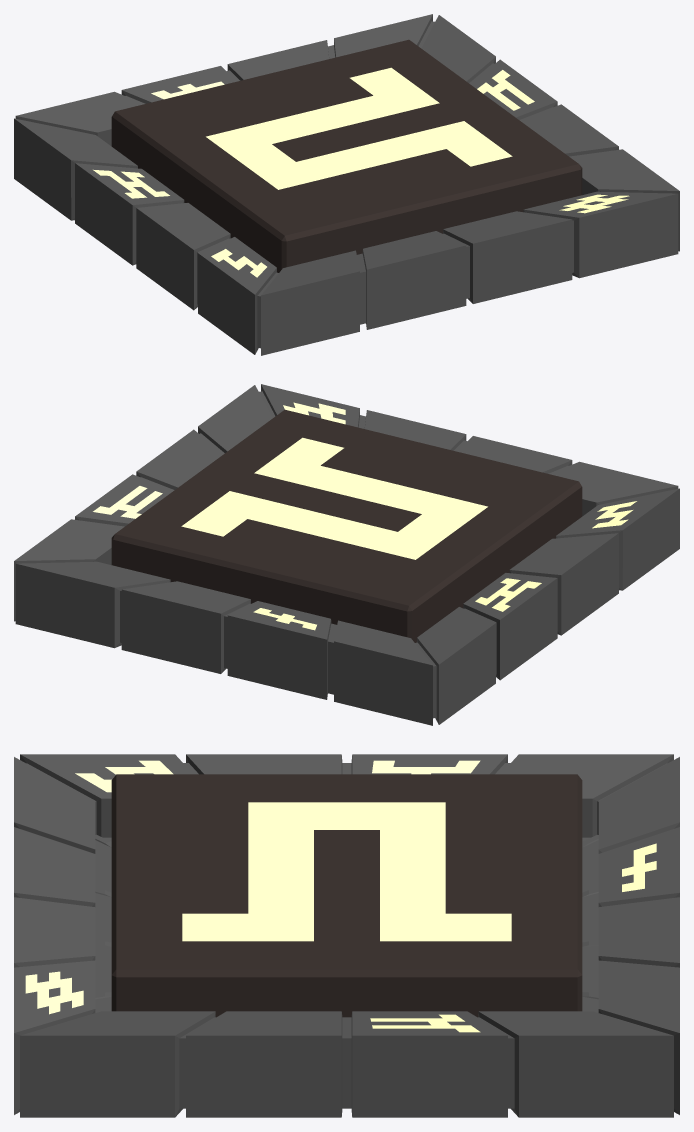
File: rune_pressure_plate_01.fbx
3 renders of one model, top to bottom at view 1: azimuth 30°, elevation 25°; view 2: azimuth 150°, elevation 25°; view 3: azimuth 270°, elevation 25°, orthographic. The views are drawn at different scales.
Visible parts, largest first — view 1: rune_pressure_plate_01, pressure_plate.001; view 2: rune_pressure_plate_01, pressure_plate.001; view 3: rune_pressure_plate_01, pressure_plate.001.
Part boxes in pixels (box(x1,y1,x2,y2)): rune_pressure_plate_01: box(14, 14, 679, 355); pressure_plate.001: box(111, 39, 582, 272); rune_pressure_plate_01: box(14, 384, 679, 725); pressure_plate.001: box(111, 409, 582, 642); rune_pressure_plate_01: box(14, 754, 679, 1117); pressure_plate.001: box(111, 774, 582, 1017).
Size of the model in its own units: 100 by 17.43 by 100.
